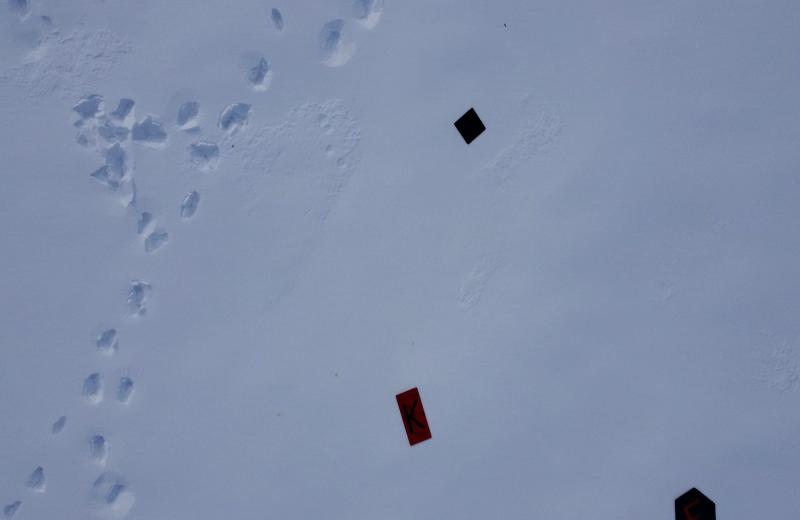Hexagon: (674, 488, 716, 520)
Rectangle: (394, 385, 434, 448)
Square: (454, 106, 488, 146)
